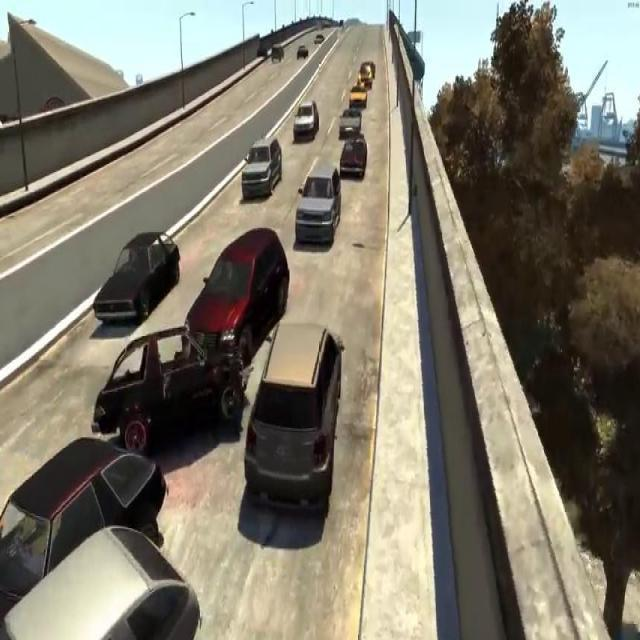accident: (93, 218, 294, 444)
